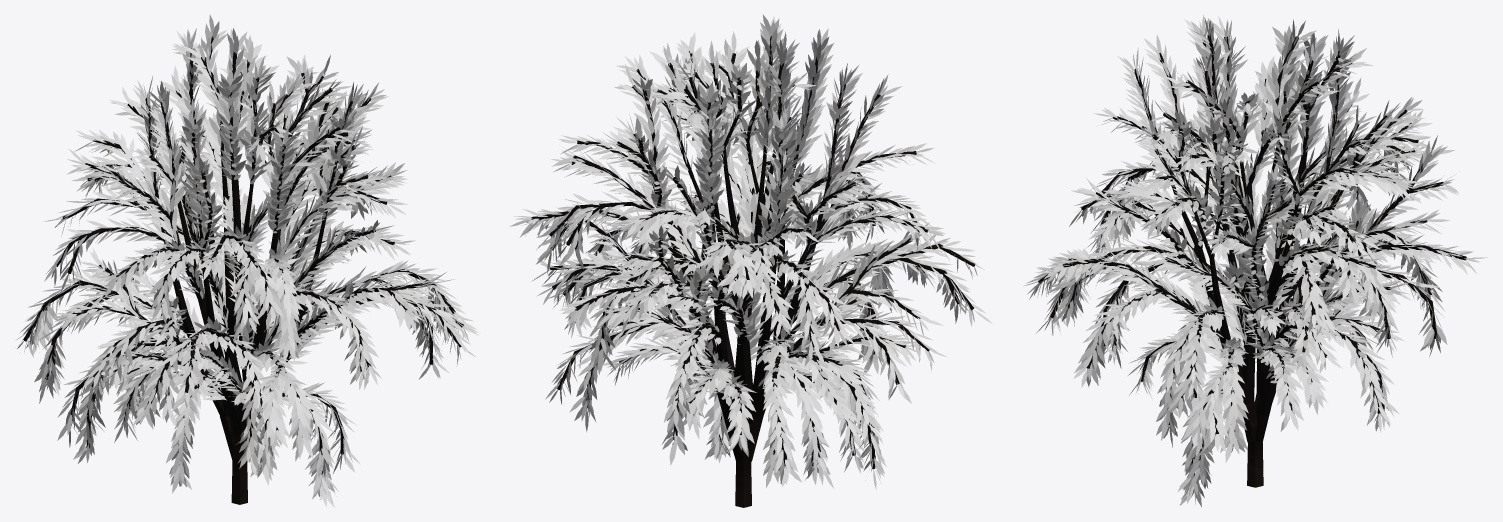
Rendered from Tree1.glb.
The picture shows the model from 3 angles, left to right: view 1: azimuth 30°, elevation 25°; view 2: azimuth 150°, elevation 25°; view 3: azimuth 270°, elevation 25°; orthographic projection. The views are drawn at different scales.
Parts seen in each view (by area): view 1: leaves, tree; view 2: leaves, tree; view 3: leaves, tree.
Boxes of the visible parts, x1=… form: leaves: x1=16, y1=15, x2=478, y2=507; tree: x1=23, y1=36, x2=463, y2=504; leaves: x1=510, y1=14, x2=993, y2=489; tree: x1=531, y1=36, x2=975, y2=507; leaves: x1=1023, y1=15, x2=1487, y2=507; tree: x1=1038, y1=35, x2=1466, y2=487.
Bounding box in the file's own units: 7.19 × 8.12 × 7.38.
Materials: 2 (1 with a texture image).
